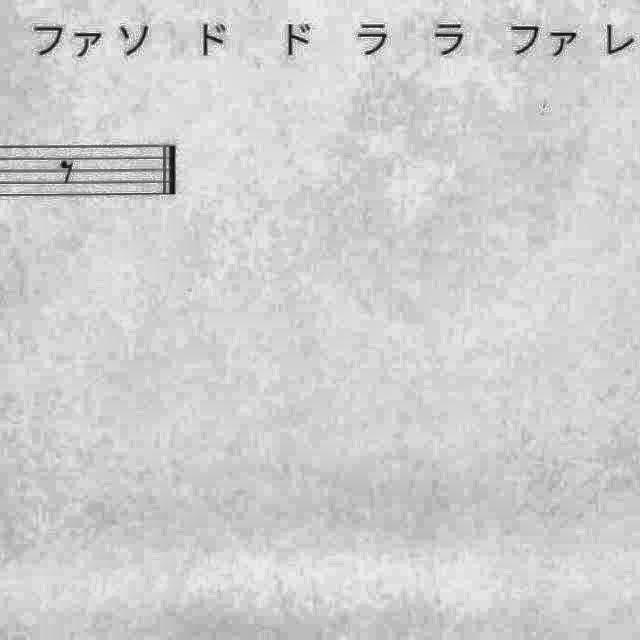Eighth-rest: (54, 152, 82, 188)
